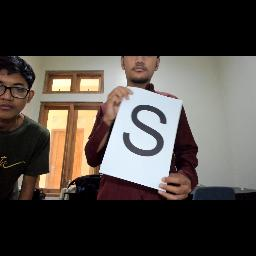s: (118, 102, 172, 162)
